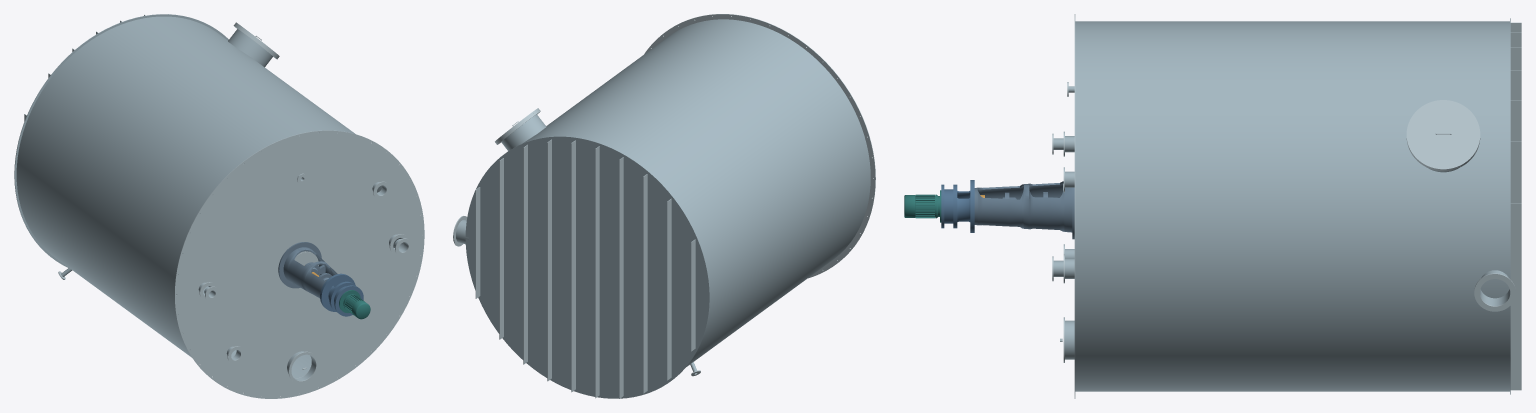
The picture shows the model from 3 angles, left to right: view 1: azimuth 30°, elevation 25°; view 2: azimuth 150°, elevation 25°; view 3: azimuth 270°, elevation 25°; orthographic projection. The views are drawn at different scales.
Visible parts, largest first — view 1: 本体_钢壳, 盖面_开孔盖板, 搅拌_06_Tapered_window_frame_with_bored_seats, 本体_底板, 接口_k接管, 搅拌_01_Motor, 搅拌_06_Frame_foot, 搅拌_02_Base_flange_top; view 2: 本体_钢壳, 本体_底板, 盖面_开孔盖板, 设备底型钢_5, 设备底型钢_6, 设备底型钢_7, 设备底型钢_4, 设备底型钢_8, 设备底型钢_3, 设备底型钢_2, 设备底型钢_9, 接口_k接管 (+2 smaller); view 3: 本体_钢壳, 搅拌_06_Tapered_window_frame_with_bored_seats, 接口_k_人孔盖, 设备底型钢_10, 设备底型钢_9, 搅拌_01_Motor, 盖面_开孔盖板, 接口_b法兰, 设备底型钢_8.
Part boxes in pixels (<box>): 本体_钢壳: <box>16,16,401,377</box>; 盖面_开孔盖板: <box>174,130,424,398</box>; 搅拌_06_Tapered_window_frame_with_bored_seats: <box>283,247,337,298</box>; 本体_底板: <box>14,14,228,267</box>; 接口_k接管: <box>228,29,272,67</box>; 搅拌_01_Motor: <box>339,290,370,319</box>; 搅拌_06_Frame_foot: <box>278,242,321,288</box>; 搅拌_02_Base_flange_top: <box>320,274,355,311</box>; 本体_钢壳: <box>522,19,870,366</box>; 本体_底板: <box>465,136,709,398</box>; 盖面_开孔盖板: <box>644,14,875,278</box>; 设备底型钢_5: <box>595,146,599,398</box>; 设备底型钢_6: <box>571,140,575,392</box>; 设备底型钢_7: <box>547,139,551,381</box>; 设备底型钢_4: <box>619,157,623,398</box>; 设备底型钢_8: <box>523,144,527,364</box>; 设备底型钢_3: <box>643,174,647,393</box>; 设备底型钢_2: <box>667,198,671,380</box>; 设备底型钢_9: <box>499,158,503,339</box>; 接口_k接管: <box>501,114,546,151</box>; 本体_钢壳: <box>1075,21,1509,391</box>; 搅拌_06_Tapered_window_frame_with_bored_seats: <box>974,181,1072,232</box>; 接口_k_人孔盖: <box>1406,100,1480,170</box>; 设备底型钢_10: <box>1510,203,1521,349</box>; 设备底型钢_9: <box>1510,141,1521,380</box>; 搅拌_01_Motor: <box>904,190,941,222</box>; 盖面_开孔盖板: <box>1074,14,1075,398</box>; 接口_b法兰: <box>1474,273,1515,311</box>; 设备底型钢_8: <box>1510,100,1521,390</box>.
Size of the model in its own units: 5.38 by 5.22 by 8.37.
